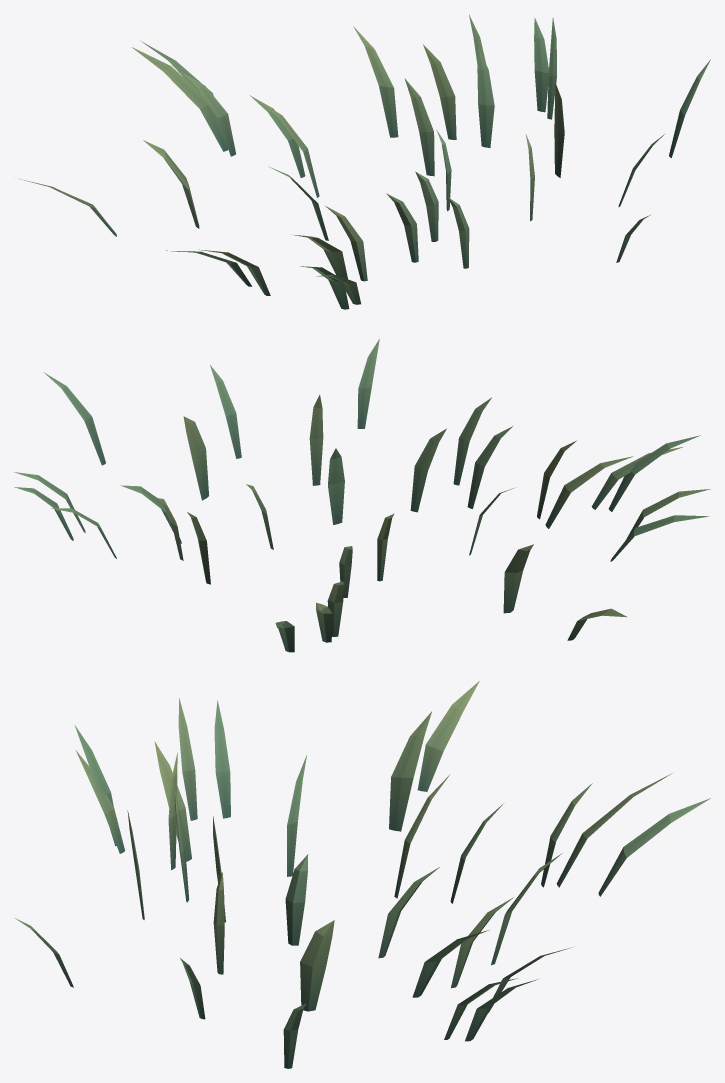
File: meadow-sward-bowed.glb
3 views of the same model, one above another, from view 1: azimuth 30°, elevation 25°; view 2: azimuth 150°, elevation 25°; view 3: azimuth 270°, elevation 25° (orthographic). The views are drawn at different scales.
Parts seen in each view (by area): view 1: meadow-sward-bowed; view 2: meadow-sward-bowed; view 3: meadow-sward-bowed.
Part boxes in pixels (x1,y1,x2,y2): meadow-sward-bowed: (18,14,710,309); meadow-sward-bowed: (14,338,710,652); meadow-sward-bowed: (15,681,710,1068).
Size of the model in its own units: 1.73 by 0.2441 by 1.47.
